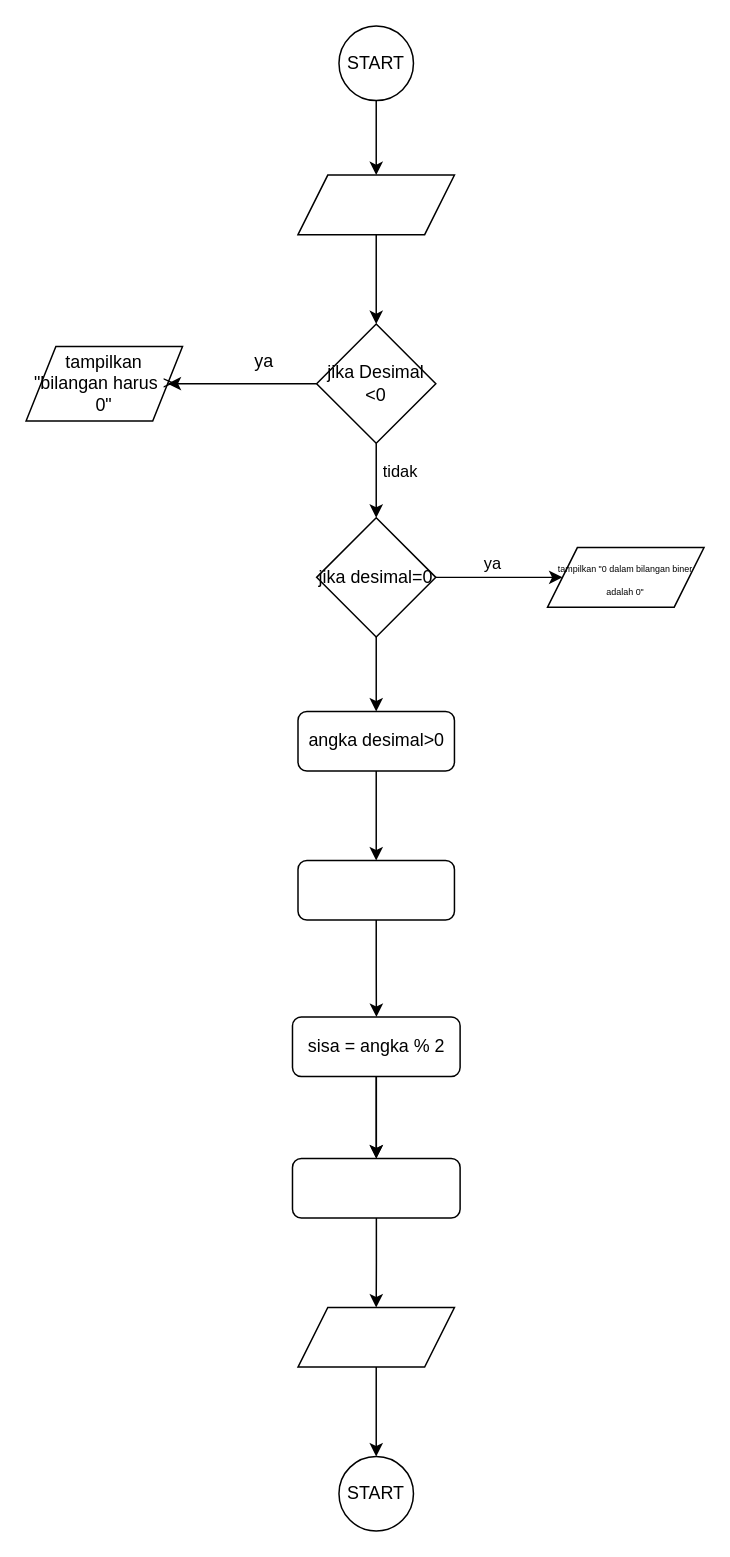
Image size: 730x1557. Some labels were removed from this diagram. The box of each missing label's shape, as (x1, y1, x2, y2) in pixels:
angka = hasil bagi: (291, 1157, 460, 1218)
Hasil bagi = angka // 2: (297, 859, 454, 920)
Input Desimal: (297, 174, 454, 235)
tampilkan "0 dalam bilangan biner: (297, 1306, 454, 1367)
